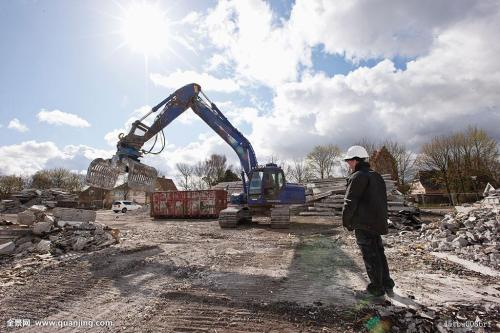boots: (351, 282, 395, 297)
hard-hat: (343, 144, 370, 160)
person: (341, 145, 395, 299)
